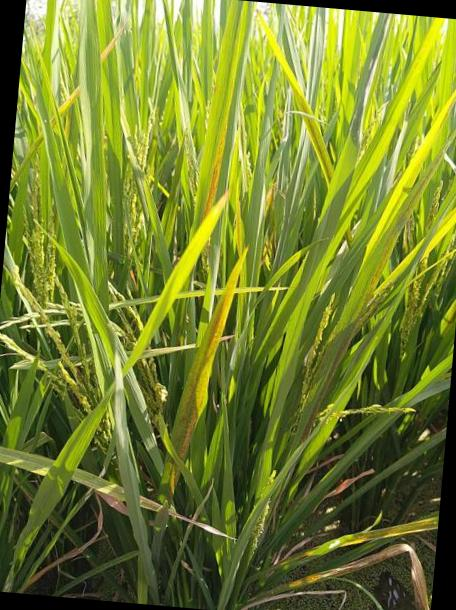Leaf Streak: (302, 151, 442, 442), (174, 256, 244, 463), (193, 133, 223, 232), (157, 457, 180, 511)
